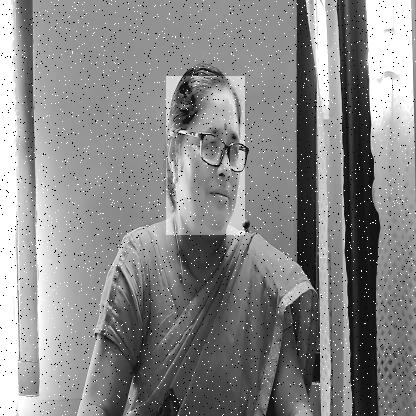Distracted: (166, 76, 245, 235)
